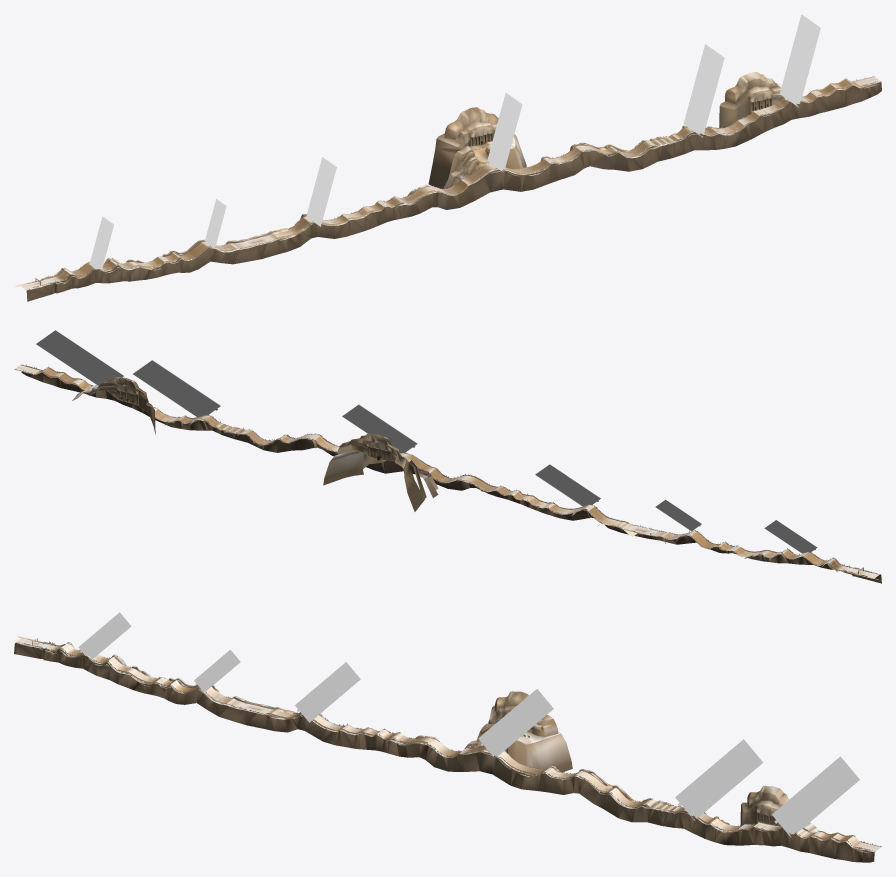
File: Desert_11.fbx
3 renders of one model, top to bottom at view 1: azimuth 30°, elevation 25°; view 2: azimuth 150°, elevation 25°; view 3: azimuth 330°, elevation 25°, orthographic.
Parts seen in each view (by area): view 1: Mountain_01, Light_01, Road_01, Ground_01, Tree_01; view 2: Mountain_01, Light_01, Road_01, Ground_01, Tree_01; view 3: Mountain_01, Light_01, Road_01, Ground_01, Tree_01.
Boxes of the visible parts, x1,y1,x2,y2 form: Mountain_01: (26,72,881,301); Light_01: (89,14,820,269); Road_01: (20,77,879,288); Ground_01: (25,76,880,289); Tree_01: (40,76,881,285); Mountain_01: (21,365,881,583); Light_01: (36,330,817,553); Road_01: (15,365,878,578); Ground_01: (14,365,879,578); Tree_01: (14,364,862,573); Mountain_01: (14,642,874,862); Light_01: (78,612,859,837); Road_01: (17,638,880,850); Ground_01: (16,639,881,851); Tree_01: (33,641,881,852).
Bounding box in the file's own units: 129729 × 13338 × 9163.
